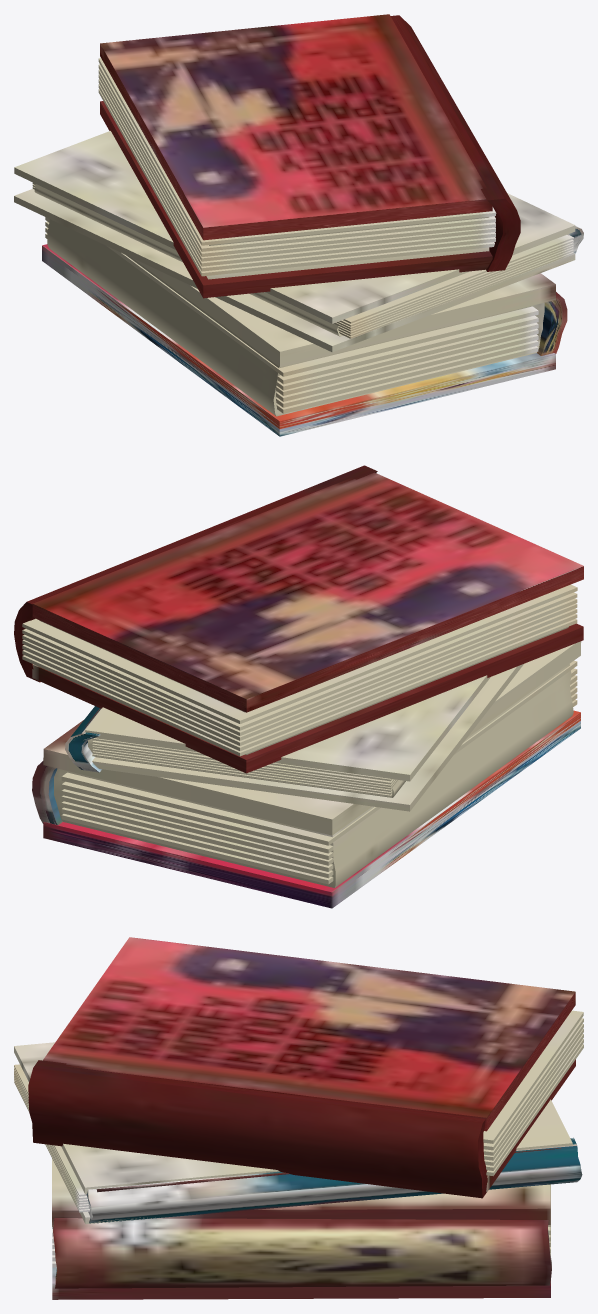
Rendered from livres.glb.
3 renders of one model, top to bottom at view 1: azimuth 30°, elevation 25°; view 2: azimuth 150°, elevation 25°; view 3: azimuth 270°, elevation 25°, orthographic. The views are drawn at different scales.
Parts seen in each view (by area): view 1: pasted__pasted__pasted__pCube2 (×3), pasted__pasted__pasted__pasted__pCube82 (×3), pasted__pasted__pCube2 (×3), pasted__pCube2, pasted__pasted__pasted__pCube82, pCube72, pasted__pasted__pasted__pasted__pCube2 (×3), pasted__pasted__pasted__pasted__pasted__pCube84 (×2), pasted__pasted__pasted__pasted__pCube84, pasted__pasted__pasted__pasted__pasted__pCube83 (×2), pasted__pasted__pasted__pasted__pasted__pCube82 (×2), pasted__pasted__pasted__pasted__pasted__pCube80 (×2) (+6 smaller); view 2: pasted__pasted__pasted__pCube2 (×3), pasted__pasted__pasted__pasted__pCube82 (×3), pasted__pCube2, pasted__pasted__pasted__pCube82, pasted__pasted__pCube2 (×2), pasted__pasted__pasted__pasted__pasted__pCube84 (×2), pasted__pasted__pasted__pasted__pCube2 (×3), pasted__pasted__pasted__pasted__pasted__pCube83 (×2), pasted__pasted__pasted__pasted__pasted__pCube82 (×2), pasted__pasted__pasted__pasted__pasted__pCube80 (×2), pasted__pasted__pasted__pasted__pasted__pCube2 (×2), pasted__pasted__pasted__pasted__pasted__pCube81 (×2) (+6 smaller); view 3: pasted__pasted__pasted__pCube2 (×2), pasted__pCube72 (×2), pCube72, pasted__pasted__pCube2 (×2), pasted__pasted__pasted__pCube82, pasted__pasted__pasted__pasted__pasted__pCube84 (×2), pasted__pasted__pasted__pasted__pasted__pCube83, pasted__pasted__pasted__pasted__pCube82, pasted__pasted__pasted__pasted__pasted__pCube82, pasted__pasted__pasted__pasted__pasted__pCube80, pasted__pasted__pasted__pasted__pasted__pCube2, pasted__pasted__pasted__pasted__pCube2 (+1 smaller).
Boxes of the visible parts, <box> form: pasted__pasted__pasted__pCube2 (×3): <box>14,14,575,413</box>; pasted__pasted__pasted__pasted__pCube82 (×3): <box>14,101,575,390</box>; pasted__pasted__pCube2 (×3): <box>34,184,555,366</box>; pasted__pCube2: <box>47,219,544,416</box>; pasted__pasted__pasted__pCube82: <box>42,244,555,436</box>; pCube72: <box>390,15,520,271</box>; pasted__pasted__pasted__pasted__pCube2 (×3): <box>32,89,573,407</box>; pasted__pasted__pasted__pasted__pasted__pCube84 (×2): <box>98,58,573,323</box>; pasted__pasted__pasted__pasted__pCube84: <box>107,246,538,376</box>; pasted__pasted__pasted__pasted__pasted__pCube83 (×2): <box>98,64,573,326</box>; pasted__pasted__pasted__pasted__pasted__pCube82 (×2): <box>98,69,573,329</box>; pasted__pasted__pasted__pasted__pasted__pCube80 (×2): <box>32,79,573,333</box>; pasted__pasted__pasted__pCube2 (×3): <box>32,472,583,884</box>; pasted__pasted__pasted__pasted__pCube82 (×3): <box>32,623,583,859</box>; pasted__pCube2: <box>54,664,573,887</box>; pasted__pasted__pasted__pCube82: <box>43,710,580,908</box>; pasted__pasted__pCube2 (×2): <box>39,620,581,835</box>; pasted__pasted__pasted__pasted__pasted__pCube84 (×2): <box>22,584,577,781</box>; pasted__pasted__pasted__pasted__pCube2 (×3): <box>22,619,577,878</box>; pasted__pasted__pasted__pasted__pasted__pCube83 (×2): <box>22,592,577,784</box>; pasted__pasted__pasted__pasted__pasted__pCube82 (×2): <box>22,598,577,787</box>; pasted__pasted__pasted__pasted__pasted__pCube80 (×2): <box>22,608,577,792</box>; pasted__pasted__pasted__pasted__pasted__pCube2 (×2): <box>22,613,577,794</box>; pasted__pasted__pasted__pasted__pasted__pCube81 (×2): <box>22,603,577,789</box>; pasted__pasted__pasted__pCube2 (×2): <box>14,937,575,1194</box>; pasted__pCube72 (×2): <box>53,1137,582,1288</box>; pCube72: <box>28,1060,487,1198</box>; pasted__pasted__pCube2 (×2): <box>52,1148,561,1226</box>; pasted__pasted__pasted__pCube82: <box>52,1267,550,1299</box>; pasted__pasted__pasted__pasted__pasted__pCube84 (×2): <box>14,1010,583,1196</box>; pasted__pasted__pasted__pasted__pasted__pCube83: <box>483,1018,583,1150</box>; pasted__pasted__pasted__pasted__pCube82: <box>486,1059,575,1191</box>; pasted__pasted__pasted__pasted__pasted__pCube82: <box>483,1024,583,1155</box>; pasted__pasted__pasted__pasted__pasted__pCube80: <box>484,1034,583,1165</box>; pasted__pasted__pasted__pasted__pasted__pCube2: <box>485,1039,583,1170</box>; pasted__pasted__pasted__pasted__pCube2: <box>486,1044,583,1176</box>.
Size of the model in its own units: 0.0309 by 0.0146 by 0.0373.
1 material, 1 textured.
